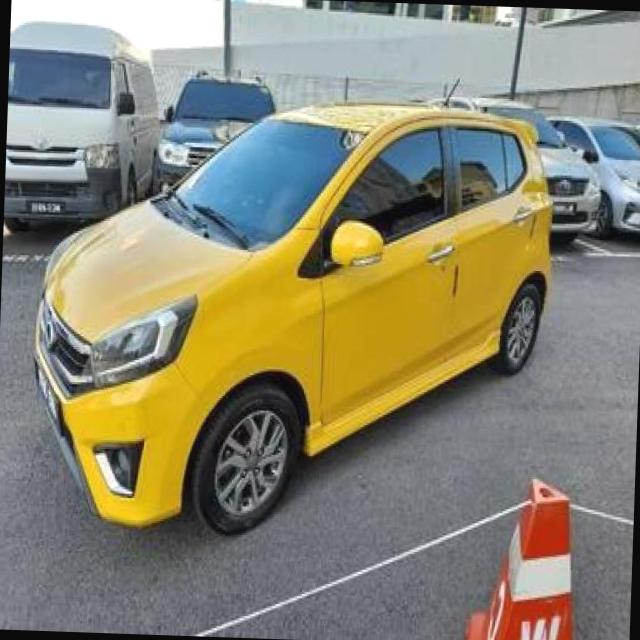PeroduaAxia: (26, 86, 560, 547)
